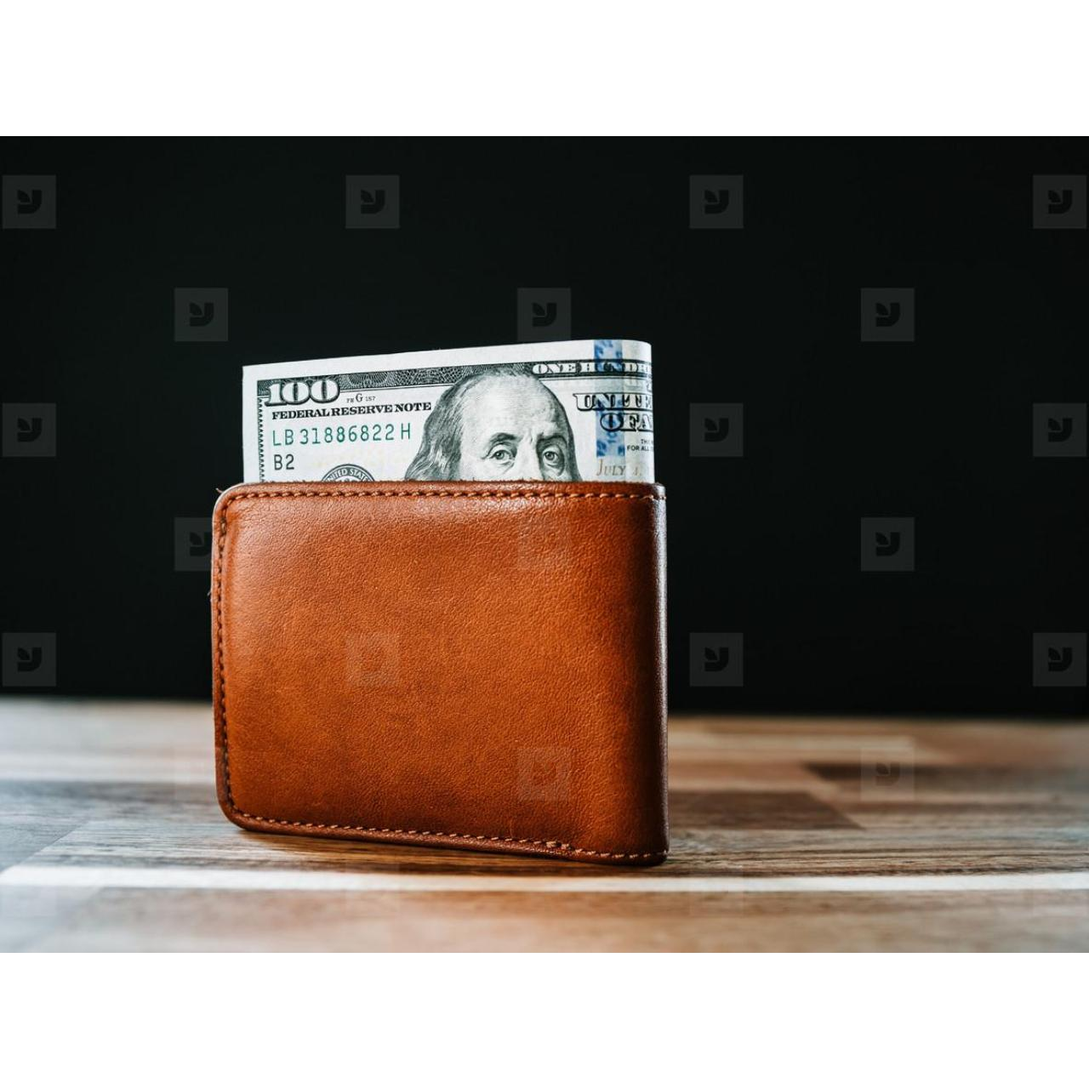wallet: (214, 482, 676, 852)
